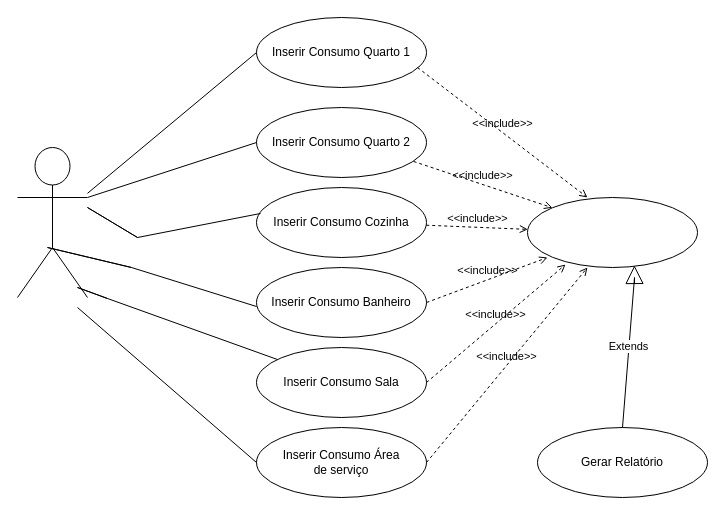
This 725x515 diagram has some shape labels left out. Each missing label, with the centre of its shape:
"Calcular Consumo" goes at (x=612, y=232).
"Usuário]" goes at (x=52, y=222).
